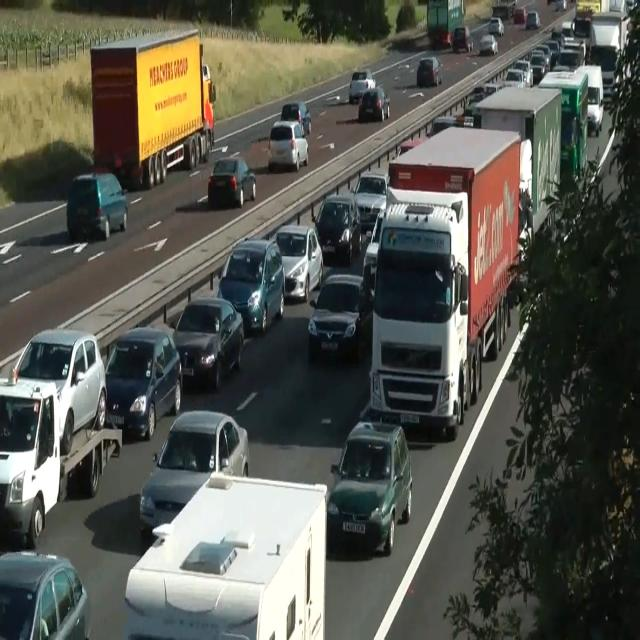bus: (139, 409, 249, 536), (9, 328, 107, 456), (326, 419, 412, 556), (104, 326, 182, 440), (0, 549, 91, 639), (172, 296, 244, 391), (216, 238, 284, 334), (308, 273, 370, 362), (66, 172, 128, 242), (274, 224, 324, 301), (313, 194, 361, 264), (208, 156, 256, 208), (267, 119, 309, 172), (353, 171, 388, 232), (362, 208, 386, 294), (588, 44, 622, 98), (561, 17, 591, 57), (280, 100, 312, 136), (358, 87, 390, 122), (429, 115, 474, 137), (349, 68, 375, 104), (549, 49, 583, 73), (416, 57, 442, 87), (508, 59, 534, 87), (528, 49, 546, 82), (451, 26, 473, 52), (397, 137, 423, 157), (503, 68, 525, 88), (479, 34, 497, 55), (488, 17, 504, 35), (526, 11, 540, 29), (513, 6, 527, 23), (555, 0, 567, 11)
car: (124, 468, 328, 638)
jeep: (0, 374, 60, 547), (574, 63, 604, 135)
minibus: (368, 125, 522, 440), (0, 373, 122, 550), (90, 28, 216, 190), (468, 84, 562, 300), (538, 70, 588, 180), (426, 0, 466, 49), (202, 62, 216, 146)
